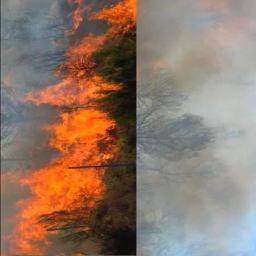Heavy smoke: (140, 0, 255, 256)
Large fire: (0, 0, 137, 256)
